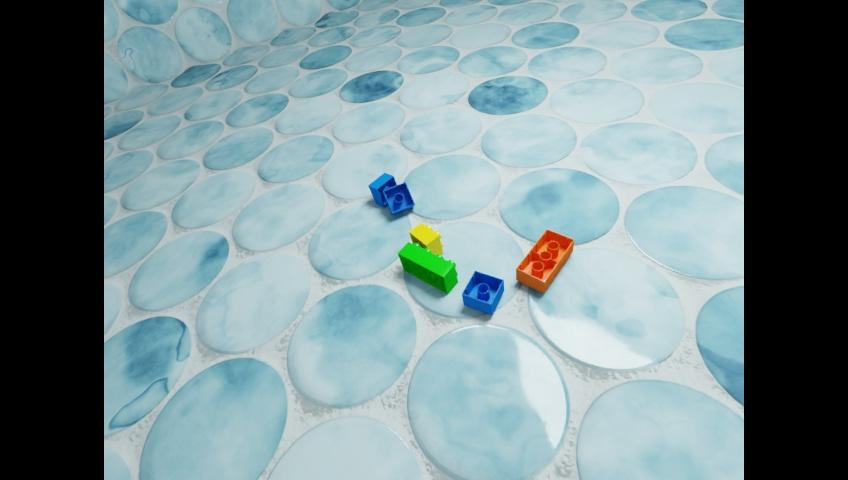2x2_blue: (461, 270, 503, 314), (384, 183, 415, 215), (368, 172, 396, 206)
2x2_yellow: (409, 222, 442, 255)
4x2_green: (397, 241, 457, 294)
4x2_orange: (516, 228, 573, 292)
